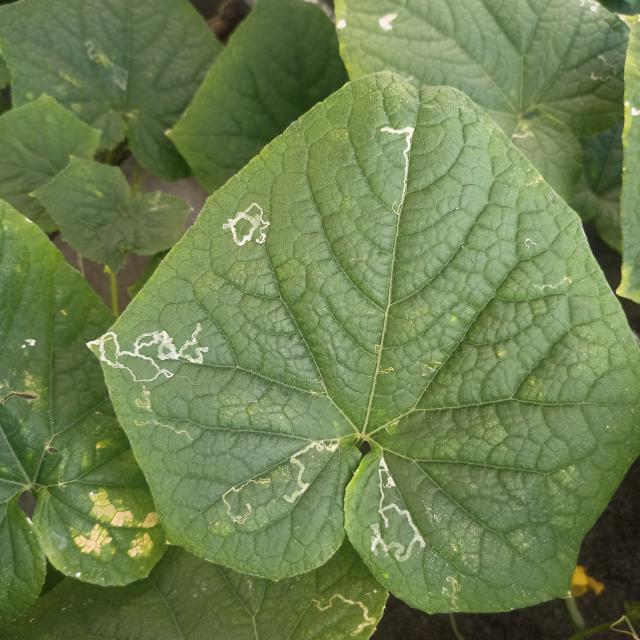disease_cucumber: (74, 489, 162, 562)
